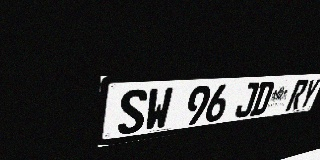6: (204, 84, 232, 123)
9: (183, 85, 212, 126)
D: (249, 81, 276, 116)
J: (233, 82, 260, 119)
R: (285, 79, 310, 111)
S: (117, 88, 148, 136)
W: (144, 87, 174, 132)
Y: (297, 78, 320, 109)
